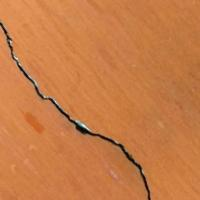crack: (0, 22, 158, 199)
